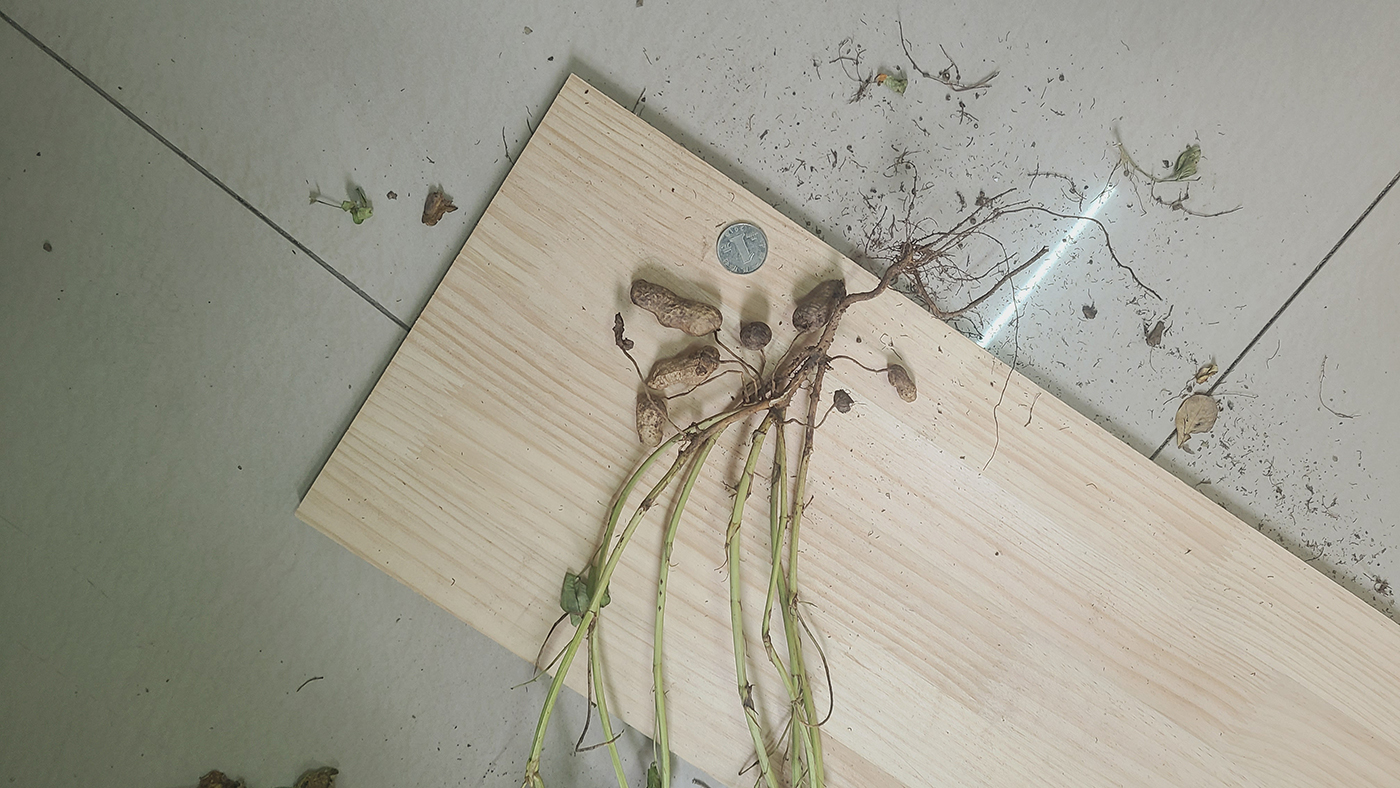h: (636, 396, 667, 448)
l: (630, 278, 723, 337), (647, 345, 720, 390), (792, 279, 847, 334), (738, 310, 772, 350), (888, 365, 918, 403), (612, 311, 635, 351), (833, 388, 855, 415)
